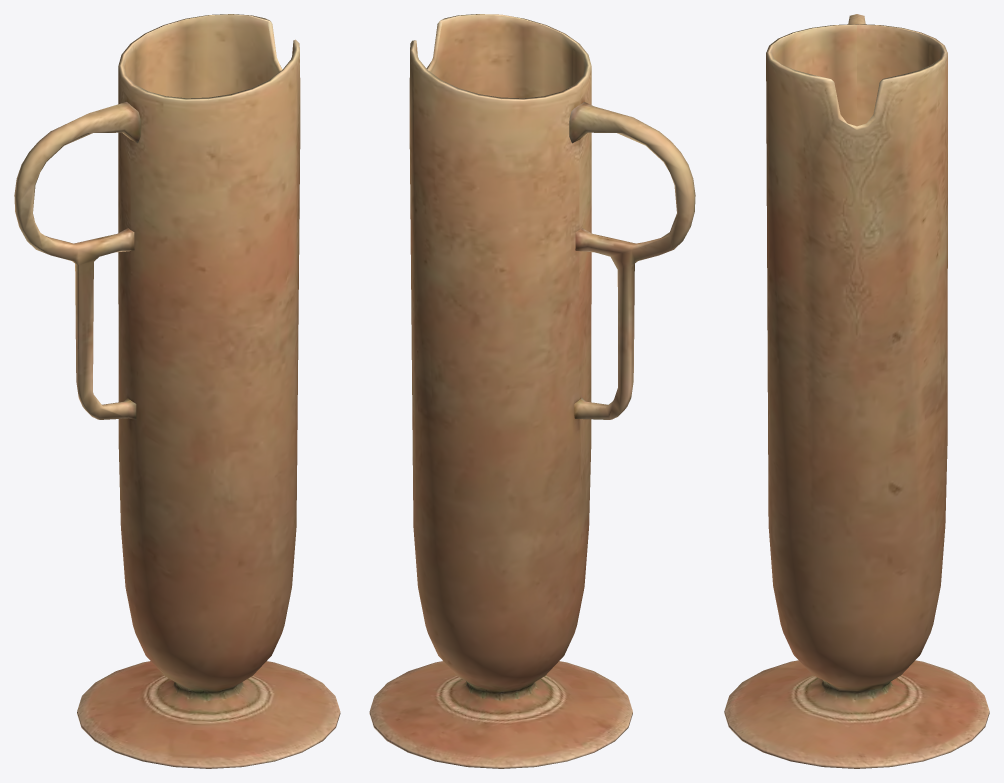
The model's file is brass_vase_04.glb.
3 renders of one model, left to right at view 1: azimuth 30°, elevation 25°; view 2: azimuth 150°, elevation 25°; view 3: azimuth 270°, elevation 25°, orthographic.
Visible parts, largest first — view 1: brass_vase_04; view 2: brass_vase_04; view 3: brass_vase_04.
Part boxes in pixels (x1,y1,x2,y2): brass_vase_04: (14, 14, 340, 768); brass_vase_04: (369, 14, 695, 768); brass_vase_04: (724, 14, 989, 768).
Bounding box in the file's own units: 0.082 × 0.1701 × 0.0611.
1 material, 1 textured.
